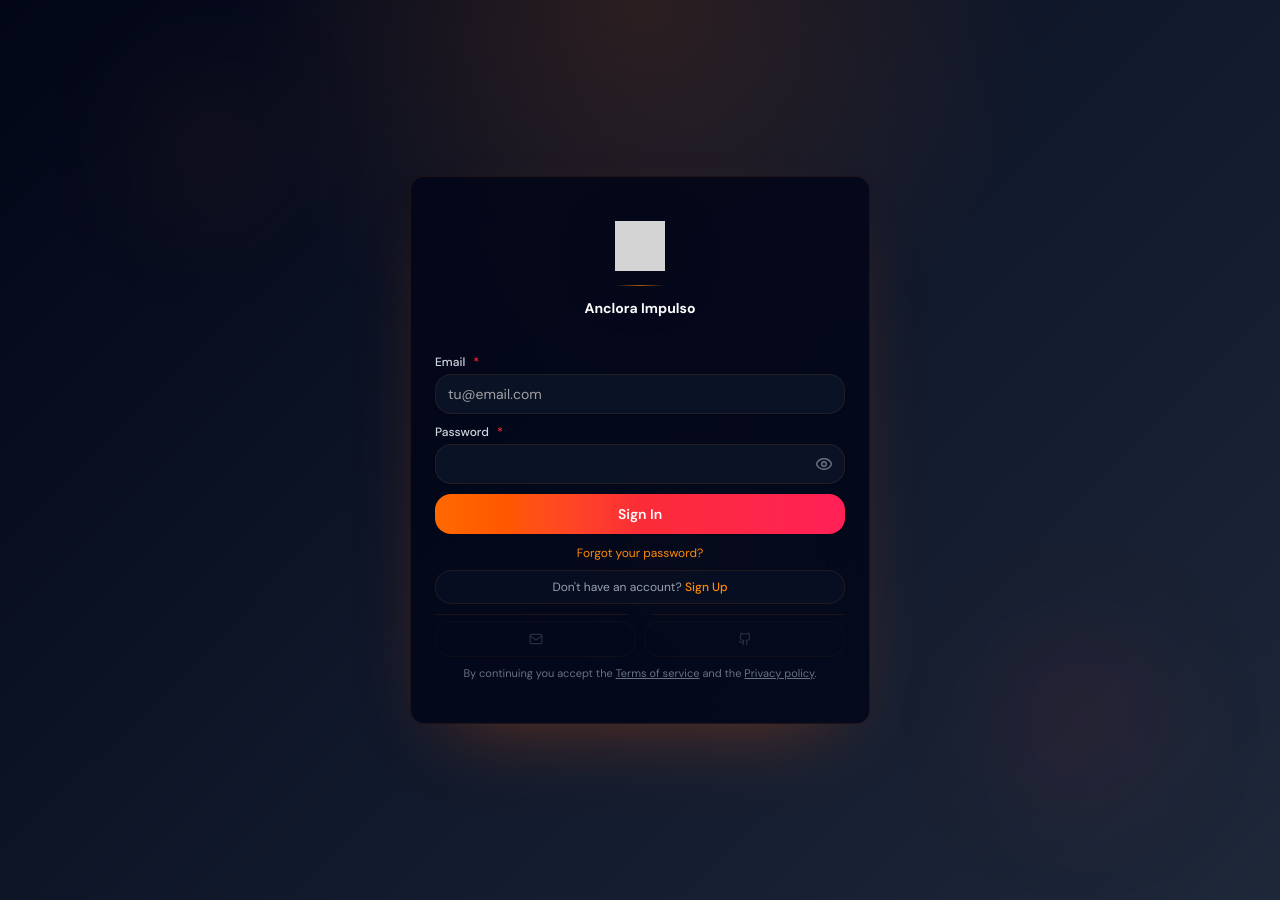
Test: LoginPage › should disable submit button while loading
Step 1. Type "test@example.com" into the field labelled "Email *" → (640, 394), box [435,374,845,414]
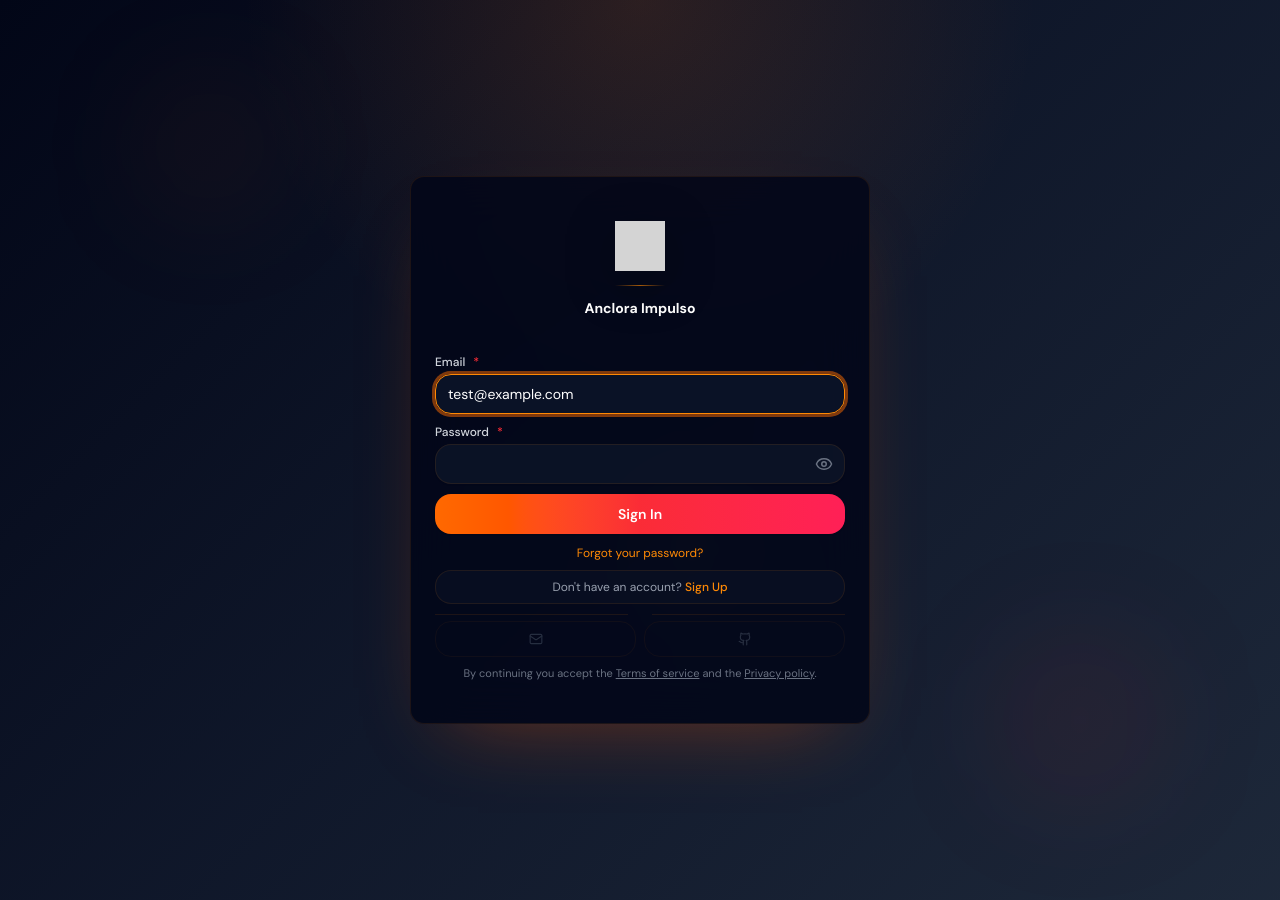
Step 2. Type "password123" into the password field labelled "Password *" → (640, 464), box [435,444,845,484]
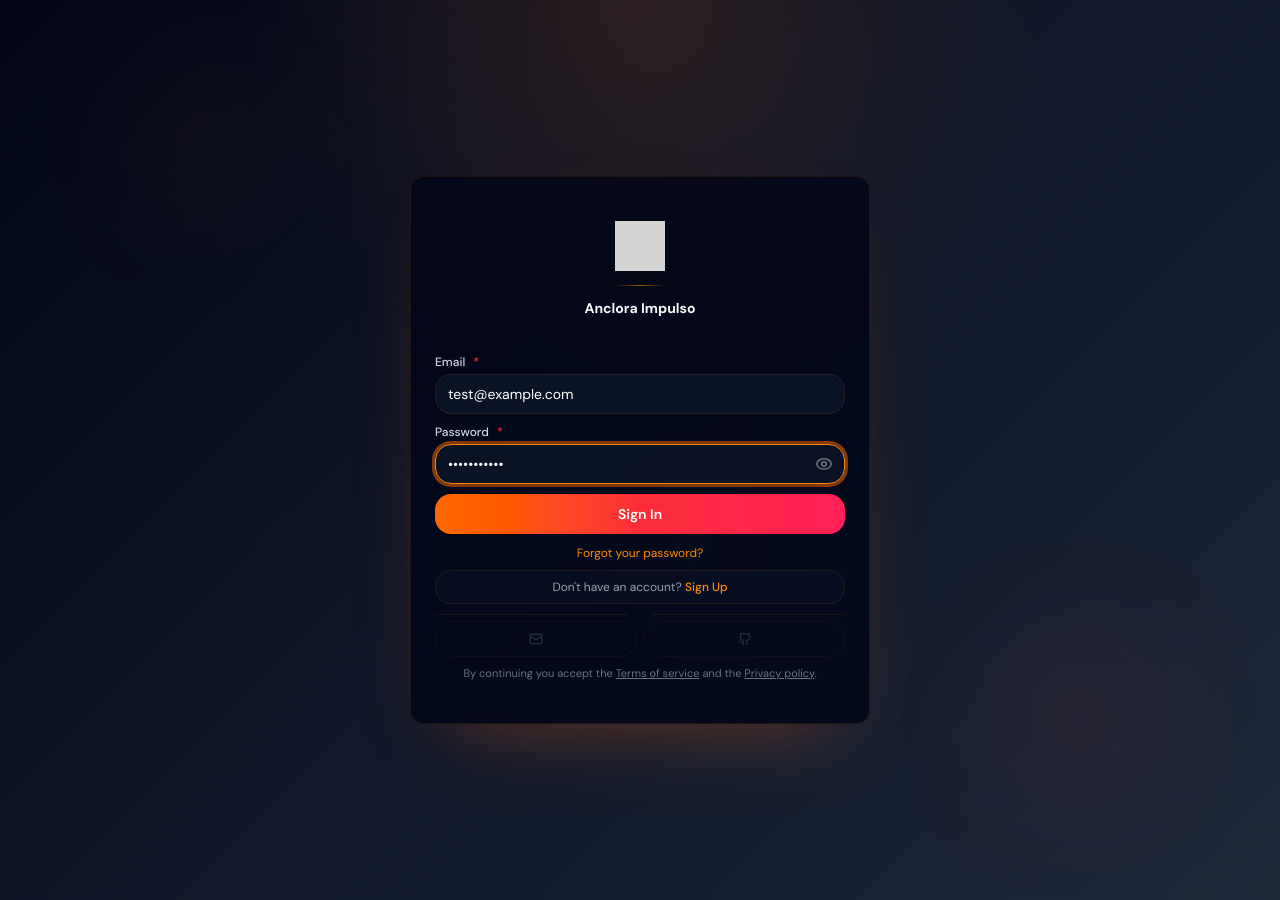
Step 3. Click the button "Sign In" → (640, 514), box [435,494,845,534]
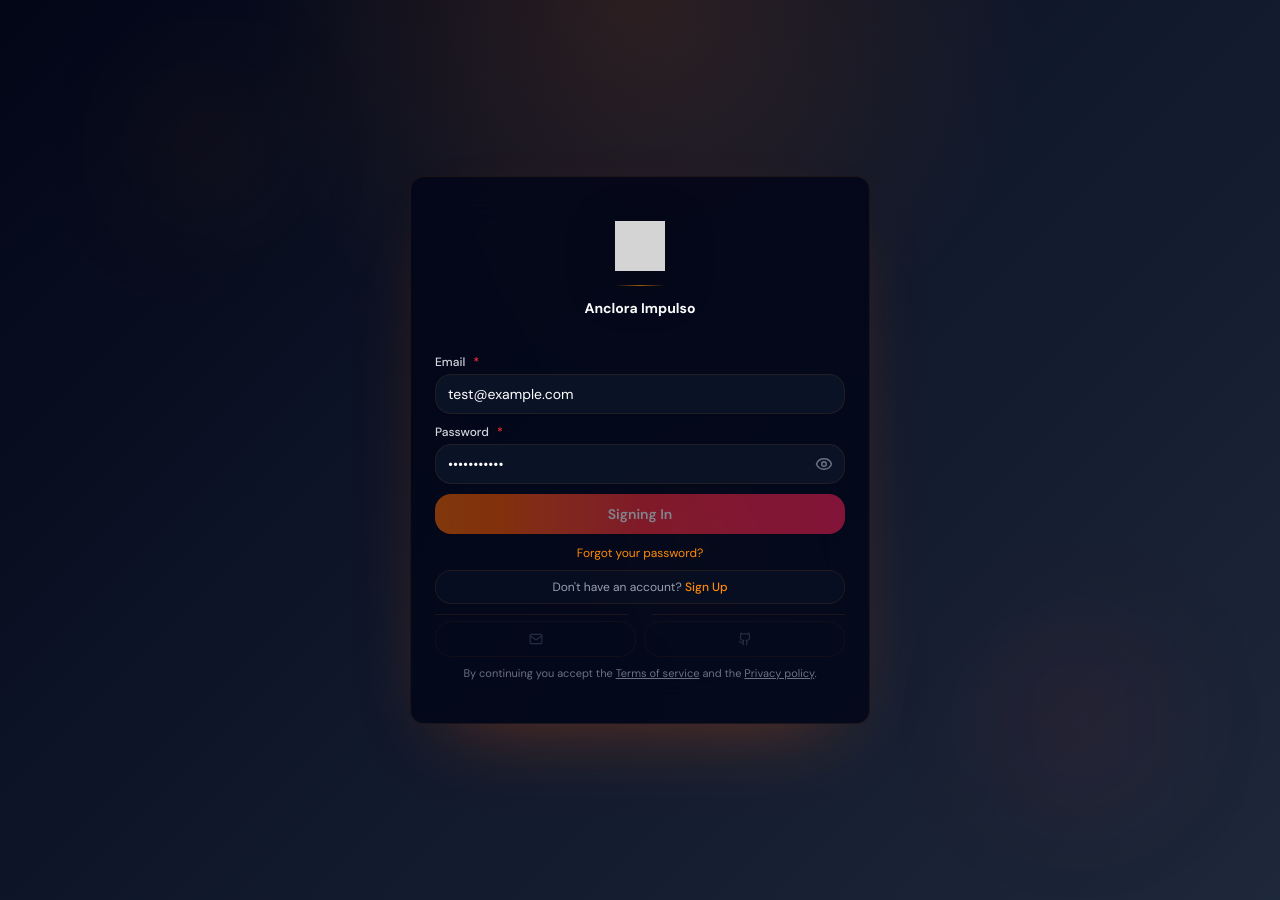
Expected: the button named "sign in" is disabled, [435,494,845,534]
